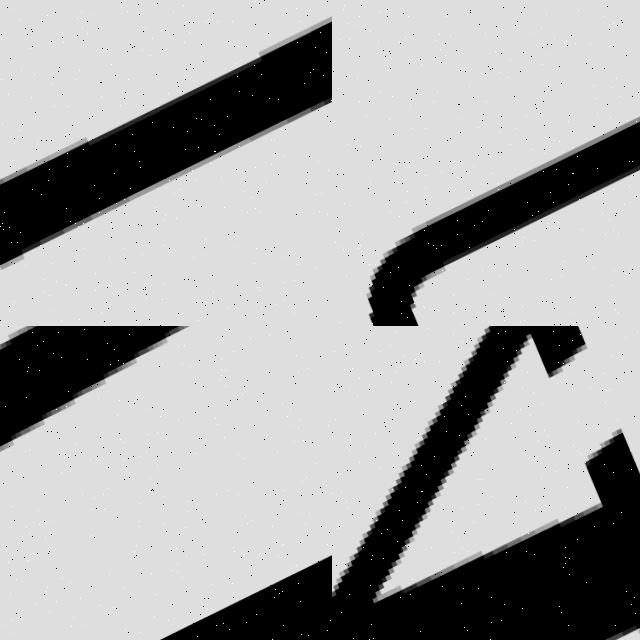1: (0, 0, 332, 326)
J: (336, 25, 640, 326)
L: (0, 326, 332, 530)
V: (332, 326, 640, 640)
